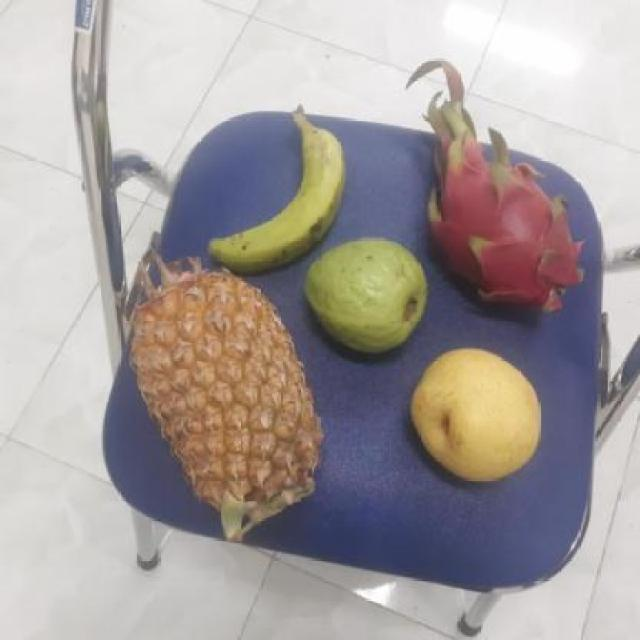banana: (201, 112, 342, 272)
dragon fruit: (421, 140, 581, 318)
guava: (403, 350, 542, 484), (301, 238, 427, 351)
pineapple: (118, 266, 324, 532)
